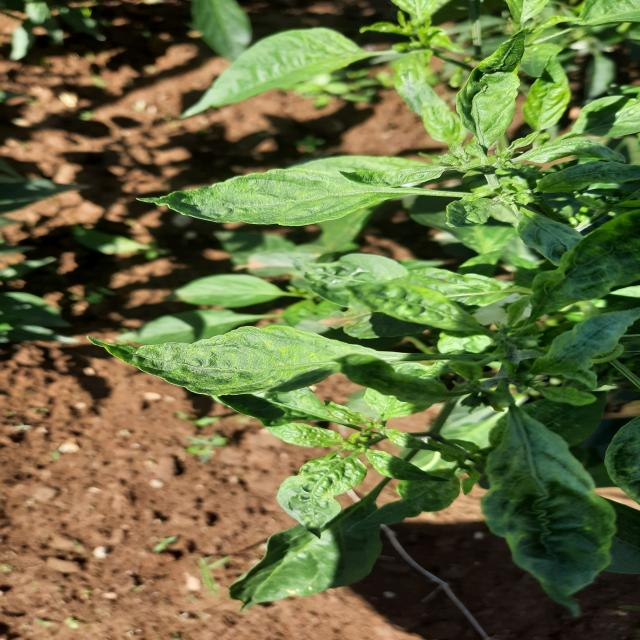thrips: (466, 397, 640, 614), (113, 318, 410, 396), (330, 275, 520, 336)
